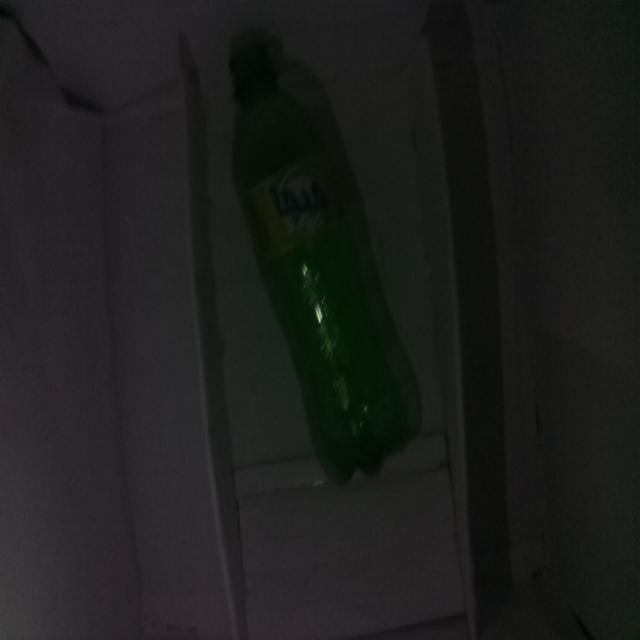Anorganik: (222, 26, 420, 495)
